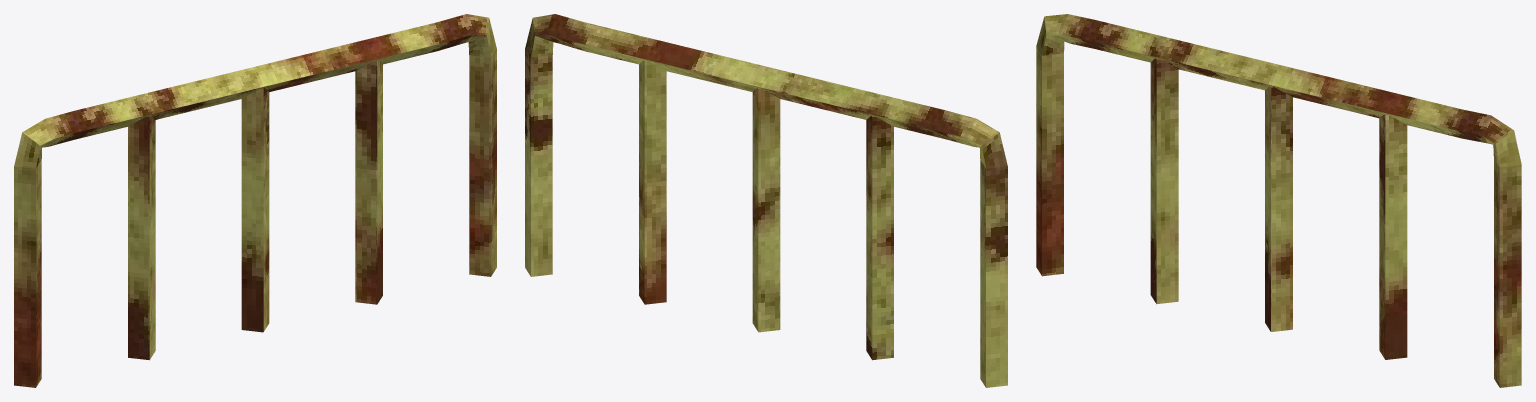
Rendered from Factory_Railing_2m.glb.
3 views of the same model, side by side, from view 1: azimuth 30°, elevation 25°; view 2: azimuth 150°, elevation 25°; view 3: azimuth 330°, elevation 25° (orthographic).
Visible parts, largest first — view 1: Factory_Railing_2m; view 2: Factory_Railing_2m; view 3: Factory_Railing_2m.
Boxes of the visible parts, x1=… form: Factory_Railing_2m: x1=14, y1=14, x2=496, y2=387; Factory_Railing_2m: x1=525, y1=14, x2=1007, y2=387; Factory_Railing_2m: x1=1036, y1=14, x2=1521, y2=387.
Size of the model in its own units: 2.12 by 1.1 by 0.1218.
1 material, 1 textured.
